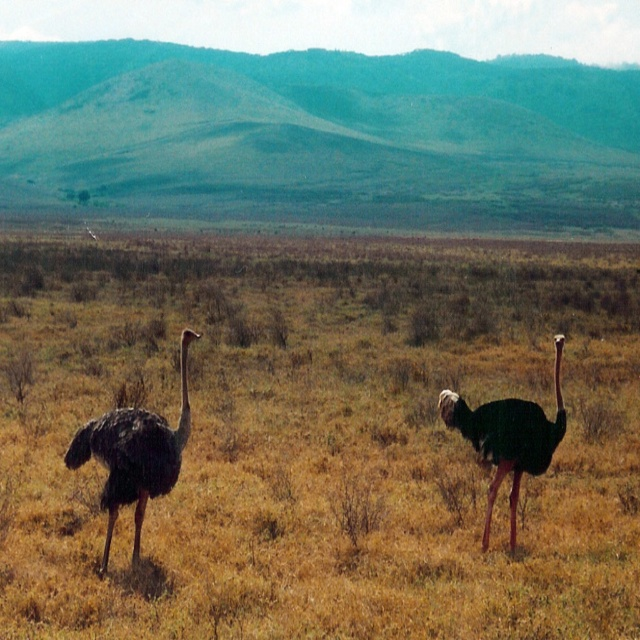Ostrich: (63, 328, 202, 581), (437, 334, 568, 559)
